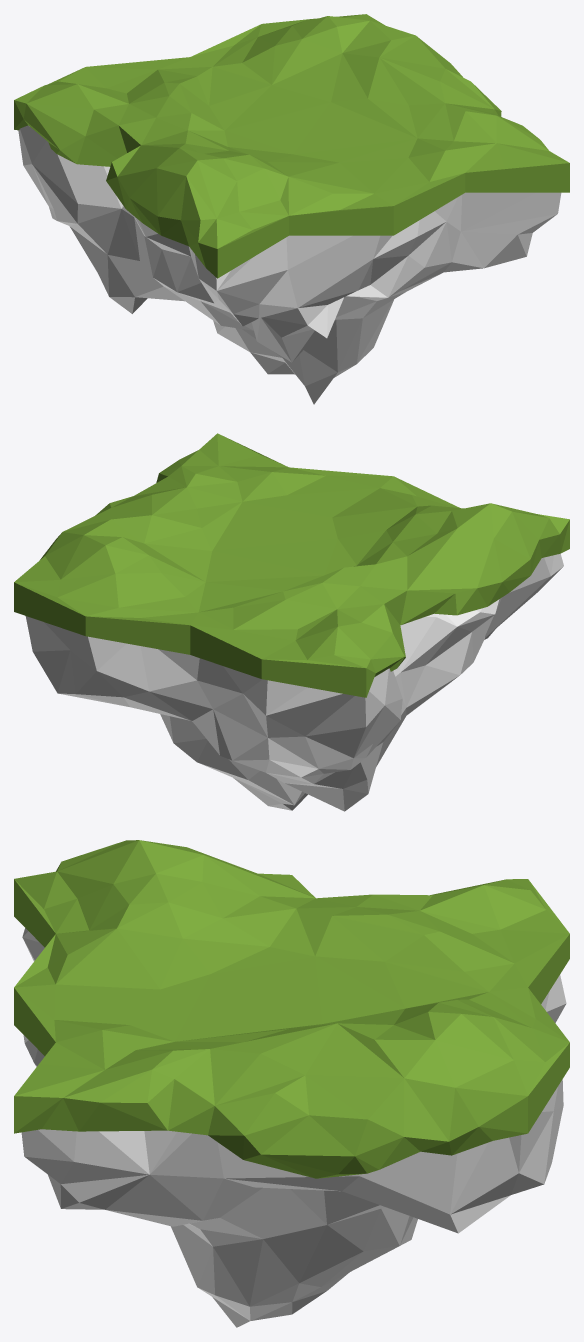
File: Area_Base3.fbx
3 views of the same model, one above another, from view 1: azimuth 30°, elevation 25°; view 2: azimuth 150°, elevation 25°; view 3: azimuth 270°, elevation 25° (orthographic). The views are drawn at different scales.
Visible parts, largest first — view 1: Area3_Top, Area3_Base; view 2: Area3_Top, Area3_Base; view 3: Area3_Top, Area3_Base.
Part boxes in pixels (x1,y1,x2,y2): Area3_Top: [14, 14, 569, 278]; Area3_Base: [18, 125, 561, 404]; Area3_Top: [14, 433, 569, 697]; Area3_Base: [25, 553, 563, 811]; Area3_Top: [14, 840, 569, 1178]; Area3_Base: [21, 928, 566, 1327].
Size of the model in its own units: 222 by 168 by 216.
